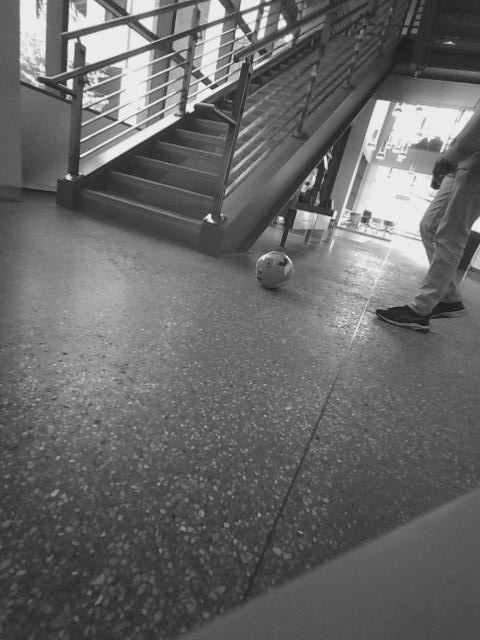ball: (240, 335, 347, 442)
